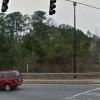Car: (1, 63, 27, 94)
